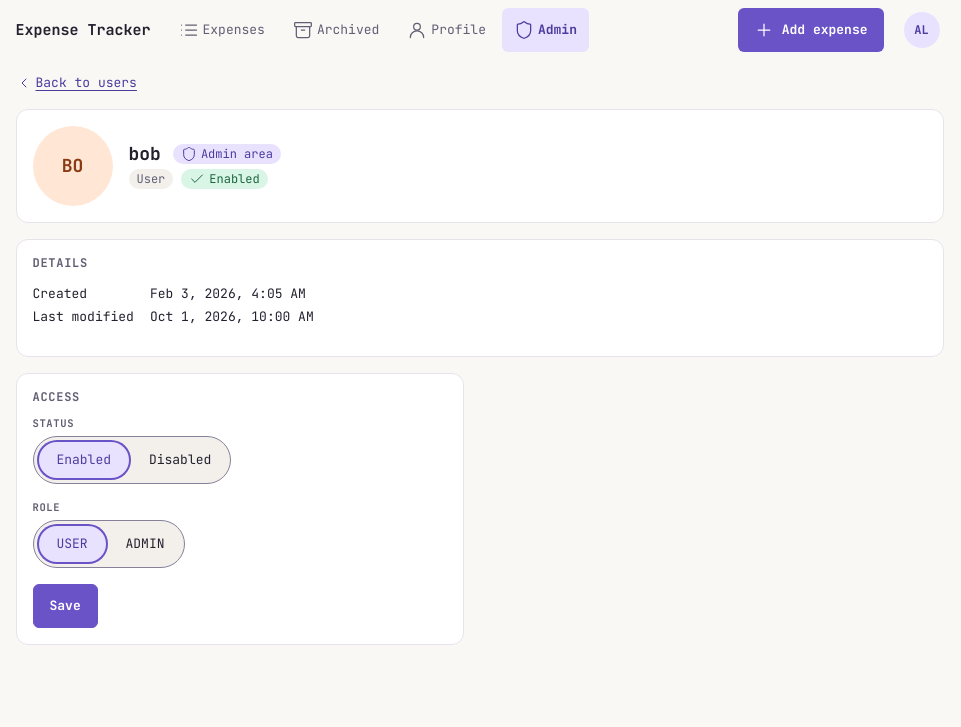
Test case: edit user › confirms a disable inline before sending it
Expected: the heading "bob" is shown, [128,144,161,165]
Click the radio button labelled "Disabled" at [180, 460], box [149,451,211,468]
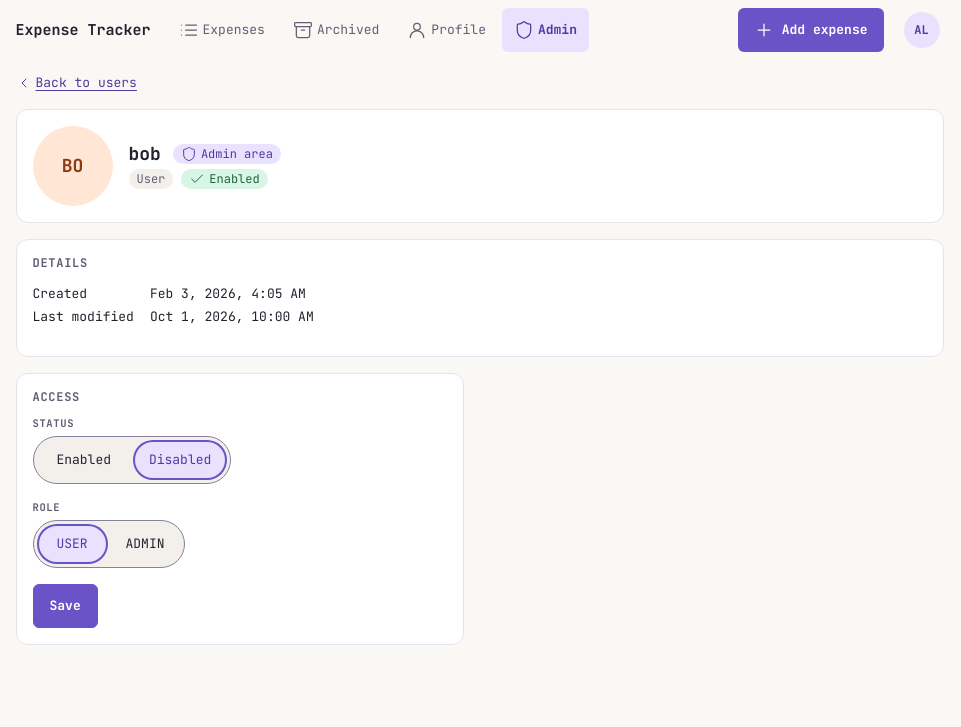
Click the button "Save" at [65, 606], box [32,584,98,628]
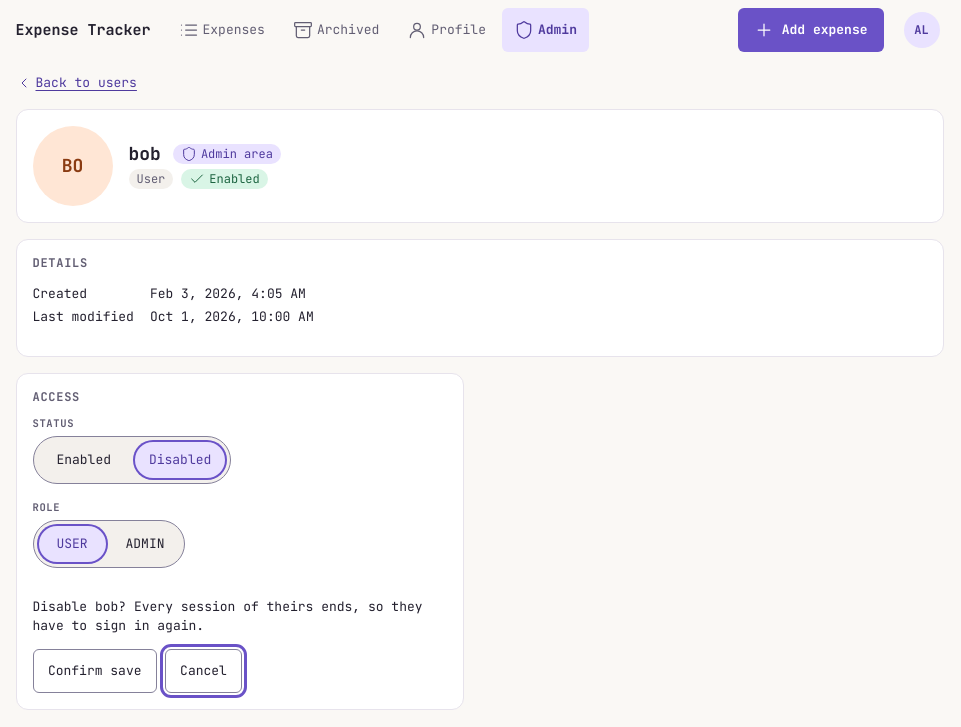
Result: the text "Disable bob?" is shown at [32,596,446,636]
Click the button "Confirm save" at [95, 670], box [32,648,157,692]
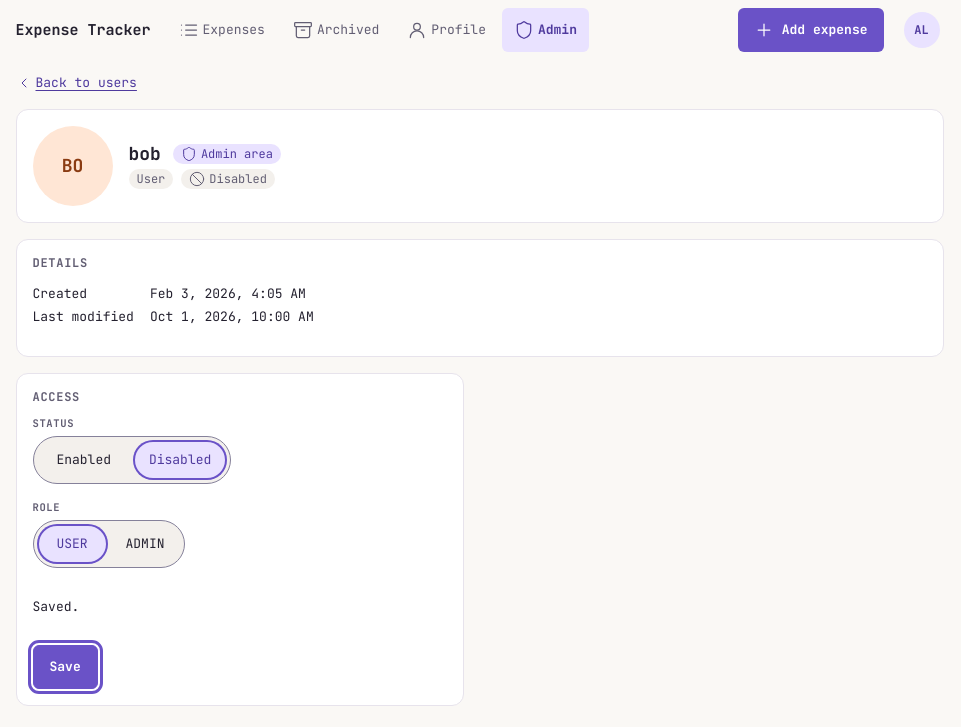
Result: the text "Saved." is shown at [32,598,79,614]
